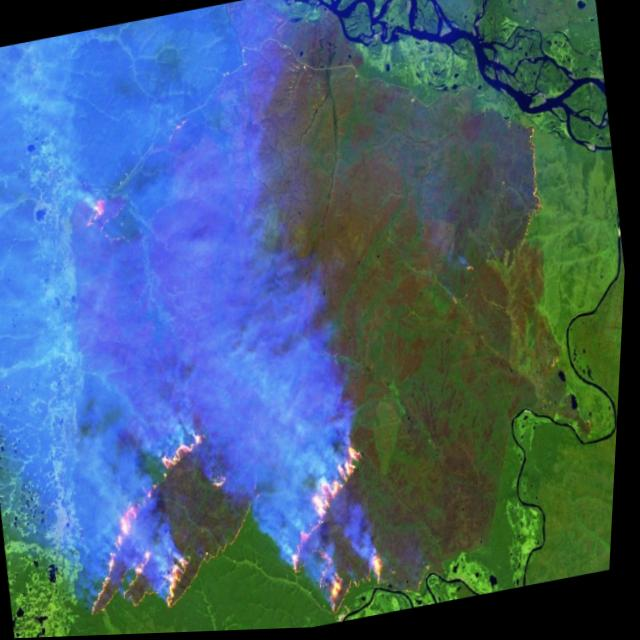fire: (23, 166, 292, 631), (274, 435, 402, 626)
